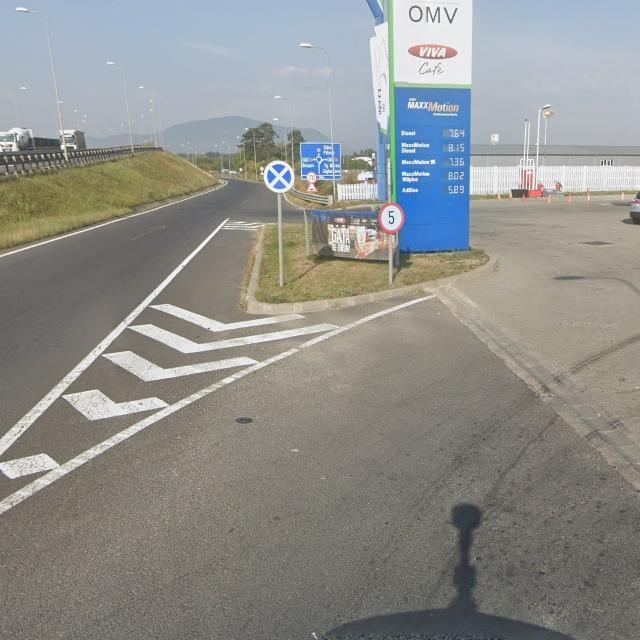forb_speed_over_70: (307, 172, 318, 184)
forb_waiting: (264, 161, 294, 194)
